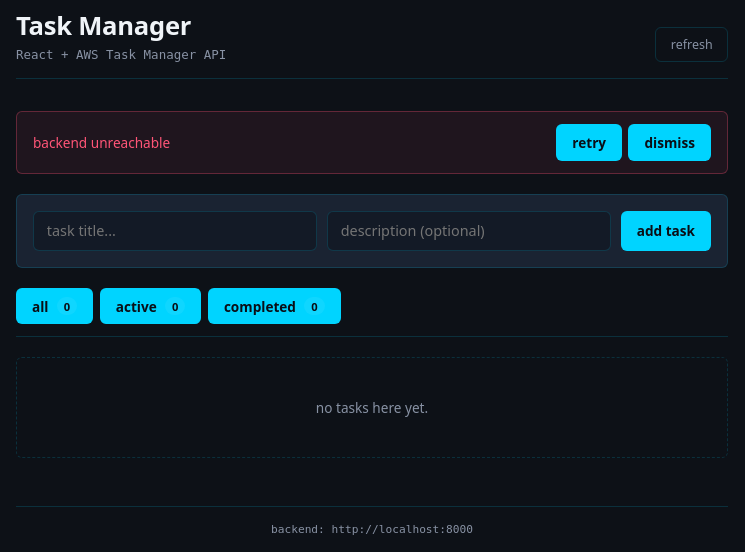
Scenario: App: error states › dismisses the error when the user clicks dismiss
Expected: the message "backend unreachable retry dismiss" is shown, [16,111,728,174]
Click the button with aria-label "dismiss error".
click(670, 142)  # box [628,124,711,161]
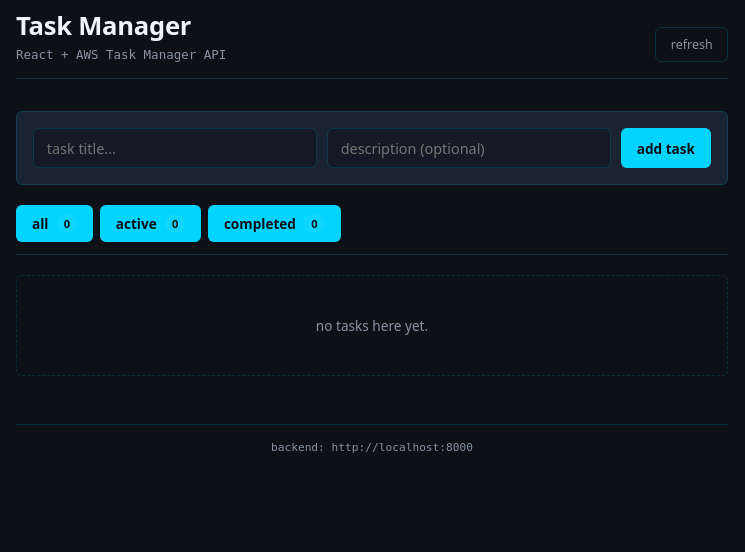
Now the message "backend unreachable retry dismiss" is gone
